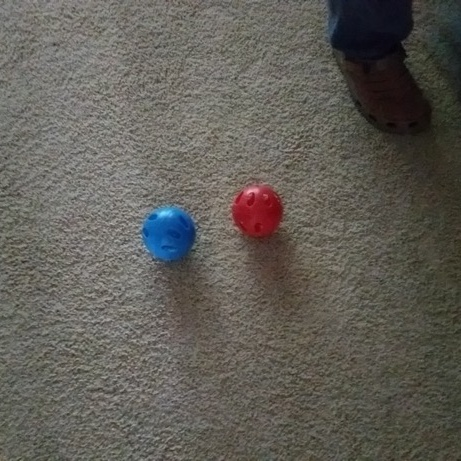blueball: (140, 204, 199, 263)
redball: (230, 182, 286, 241)
